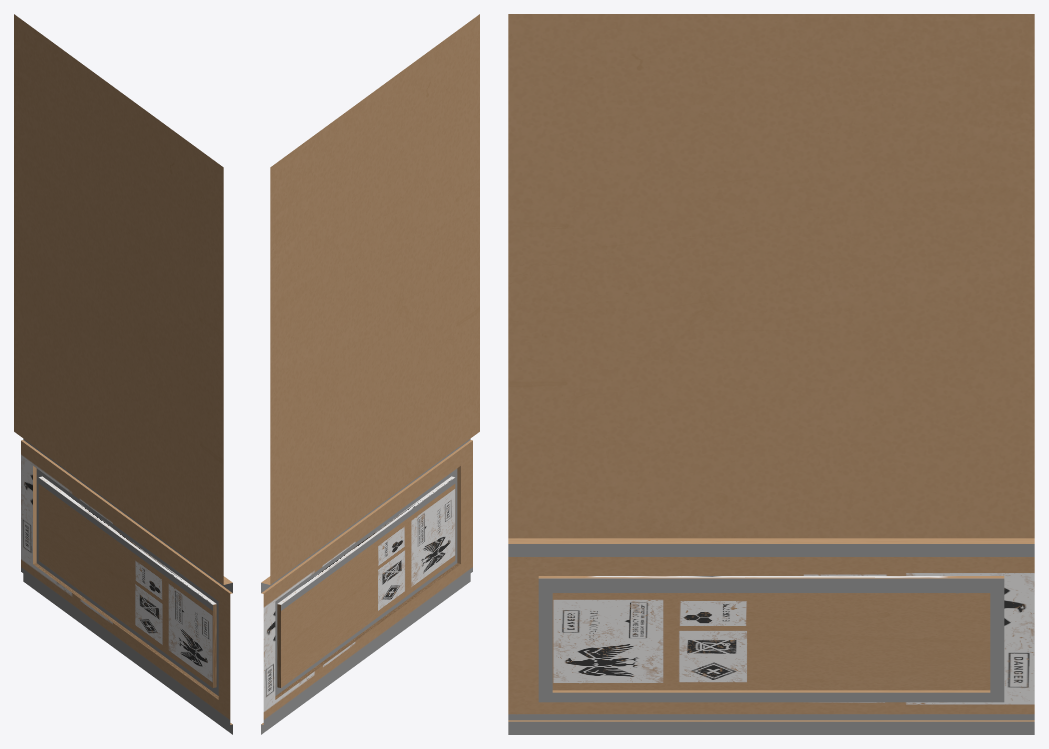
File: tekduvar.fbx
3 views of the same model, side by side, from view 1: azimuth 30°, elevation 25°; view 2: azimuth 150°, elevation 25°; view 3: azimuth 270°, elevation 25° (orthographic). The views are drawn at different scales.
Visible parts, largest first — view 1: Cube.008; view 2: Cube.008; view 3: Cube.008.
Part boxes in pixels (x1=…): Cube.008: x1=14, y1=14, x2=232, y2=734; Cube.008: x1=261, y1=14, x2=479, y2=734; Cube.008: x1=508, y1=14, x2=1034, y2=734.
Size of the model in its own units: 5.94 by 300 by 200.
